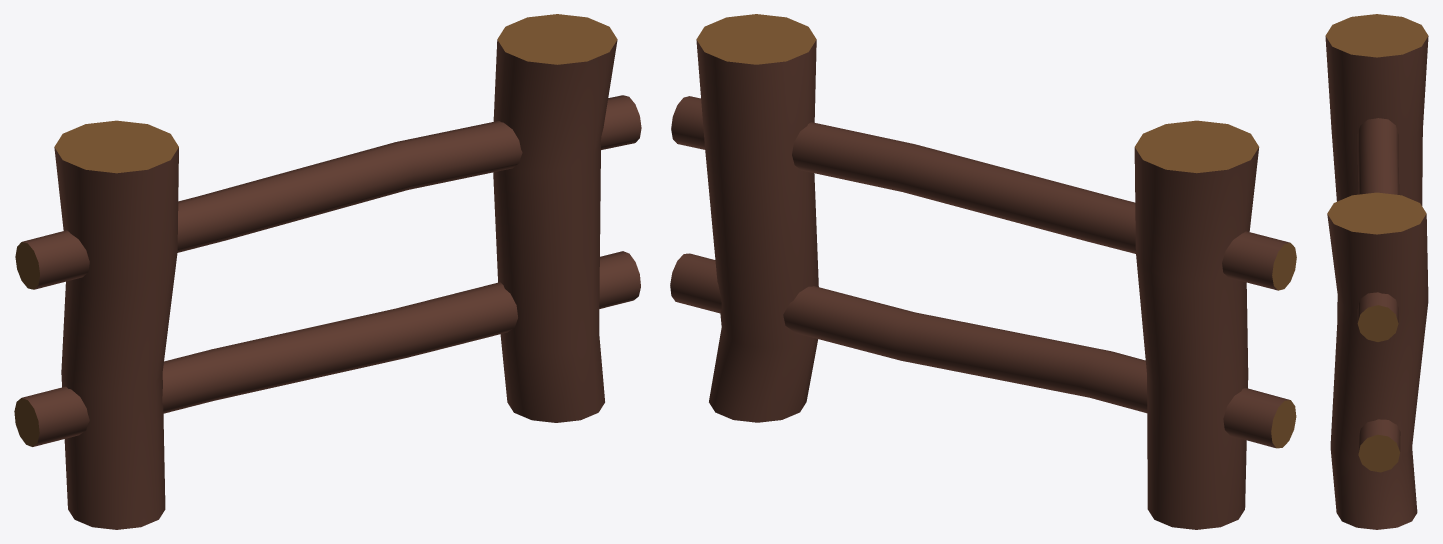
The model's file is WoodRoundFence_Single.fbx.
3 views of the same model, side by side, from view 1: azimuth 30°, elevation 25°; view 2: azimuth 150°, elevation 25°; view 3: azimuth 270°, elevation 25° (orthographic). The views are drawn at different scales.
Visible parts, largest first — view 1: WoodRoundFence_Single; view 2: WoodRoundFence_Single; view 3: WoodRoundFence_Single.
Boxes of the visible parts, bbox=[...] form: WoodRoundFence_Single: bbox=[14, 14, 641, 529]; WoodRoundFence_Single: bbox=[670, 14, 1296, 529]; WoodRoundFence_Single: bbox=[1325, 14, 1428, 529].
Bounding box in the file's own units: 302 × 174 × 54.2.
